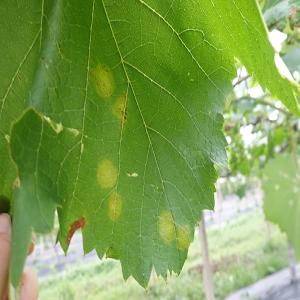Folha: (0, 0, 299, 292)
Fungo: (89, 61, 115, 100), (96, 157, 118, 190), (157, 208, 175, 246), (111, 94, 129, 124), (67, 216, 85, 246), (106, 191, 122, 221)
